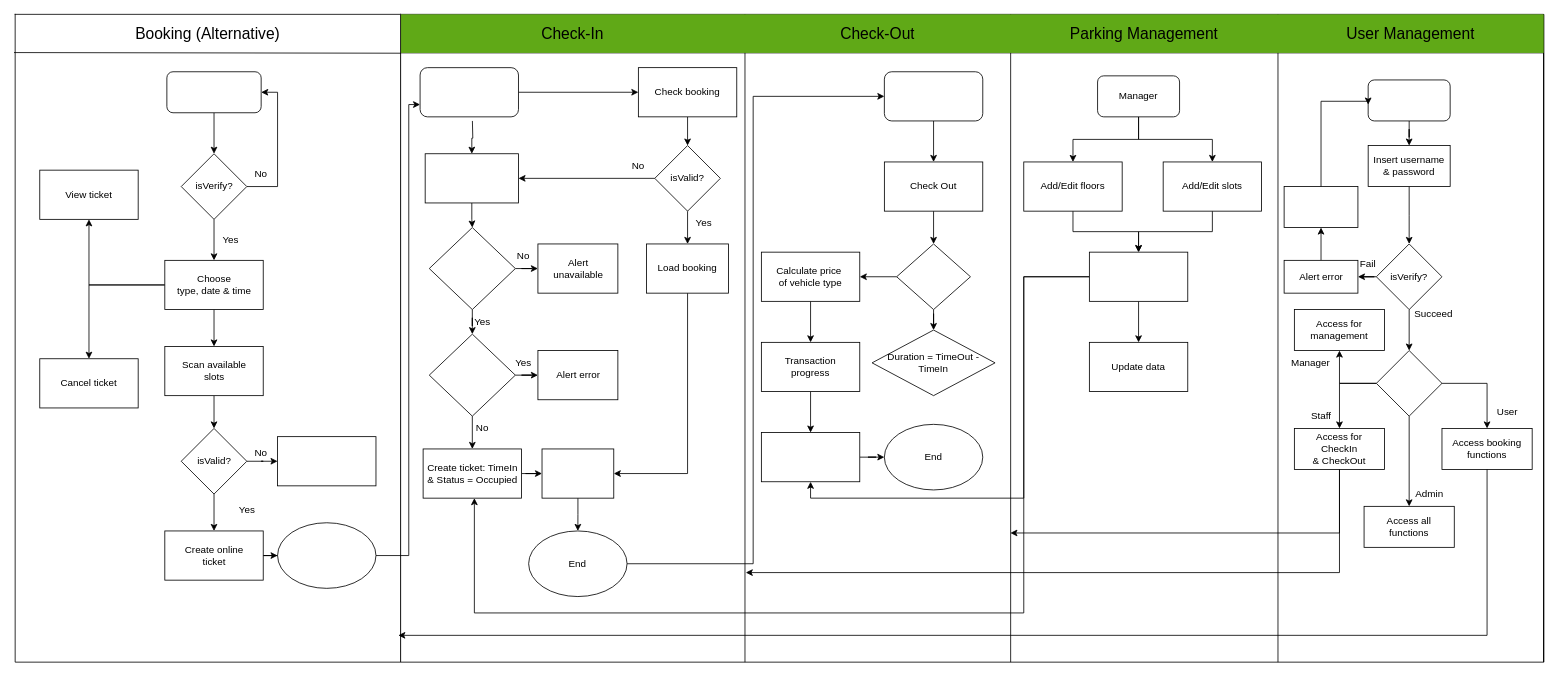
The diagram is 1559 pixels wide and 677 high, and some of its shapes have lost their labels. Here are the shapes that lost their labels. From the top down, the centre of each, then its label:
At (213,92): "User login".
At (468,92): "Vehicle in".
At (933,96): "Vehicle out".
At (1408,100): "Log in".
At (471,178): "Scan license plate & vehicle type".
At (1320,207): "Recovery procedure".
At (471,268): "check Available Slots?".
At (933,276): "checkTicket?".
At (1138,276): "Update/Edit status".
At (471,374): "check Existed Vehicle?".
At (1409,383): "isRole?".
At (326,461): "No slots available alert".
At (577,473): "Auto-A ssign slot after parking (AI)".
At (810,457): "Update status = Unoccupied".
At (326,555): "Booking Complete".
